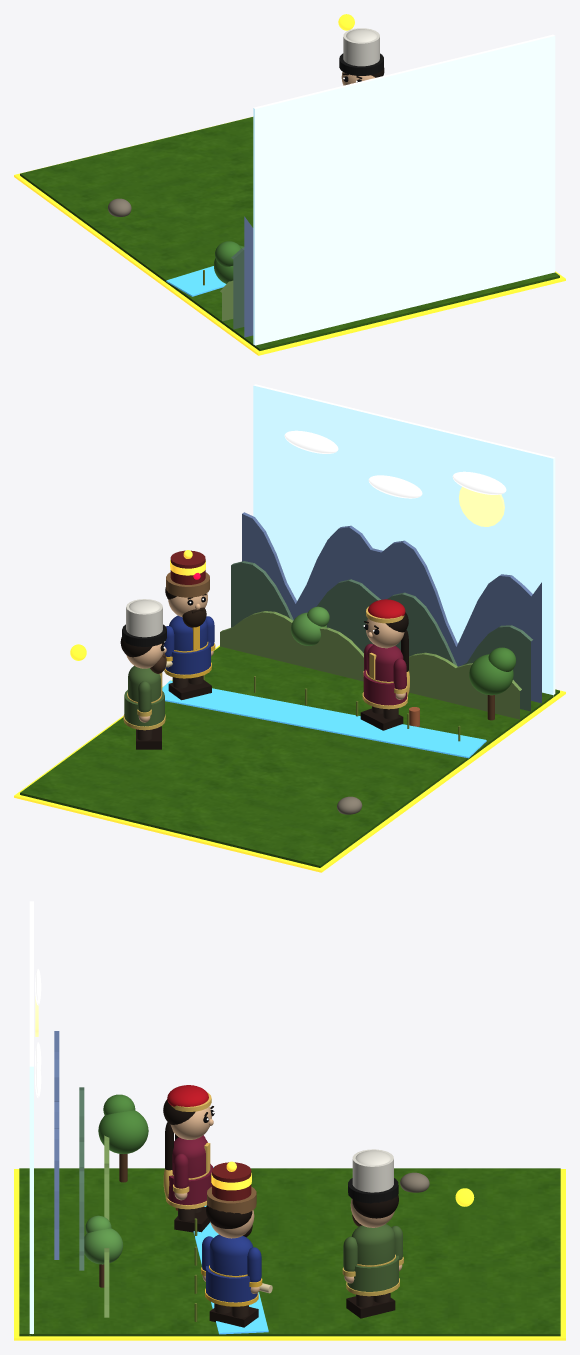
3 renders of one model, top to bottom at view 1: azimuth 30°, elevation 25°; view 2: azimuth 150°, elevation 25°; view 3: azimuth 270°, elevation 25°, orthographic. The views are drawn at different scales.
Visible parts, largest first — view 1: Аспан, Жер, Жиек, Алыс жота, Kalpak, Өзен, Орта жота, Brim, Жапырақ, Жақын төбе; view 2: Жер, Аспан, Алыс жота, Орта жота, Жақын төбе, Өзен, Жиек, Skirt (×3), Бұлт (×3), Torso (×3), Жапырақ (×2), Күн (+4 smaller); view 3: Жер, Жиек, Torso (×3), Skirt (×3), Жапырақ (×2), Аспан, Алыс жота, Hair (×2), Kalpak, Орта жота, Өзен, Crown (+5 smaller).
Boxes of the visible parts, x1,y1,x2,y2 form: Аспан: [253, 34, 555, 345]; Жер: [20, 117, 559, 350]; Жиек: [14, 116, 565, 355]; Алыс жота: [244, 216, 253, 337]; Kalpak: [343, 28, 379, 66]; Өзен: [166, 266, 226, 296]; Орта жота: [231, 247, 244, 329]; Brim: [339, 53, 383, 75]; Жапырақ: [215, 241, 241, 266]; Жақын төбе: [220, 280, 233, 321]; Жер: [20, 646, 559, 867]; Аспан: [253, 384, 555, 696]; Алыс жота: [242, 512, 541, 703]; Орта жота: [231, 561, 532, 711]; Жақын төбе: [220, 611, 521, 719]; Өзен: [162, 680, 486, 758]; Жиек: [14, 645, 565, 872]; Skirt (×3): [124, 642, 406, 726]; Бұлт (×3): [284, 430, 506, 498]; Torso (×3): [128, 615, 403, 701]; Жапырақ (×2): [291, 612, 513, 695]; Күн: [459, 486, 504, 526]; Жер: [19, 1168, 560, 1336]; Жиек: [14, 1169, 565, 1340]; Torso (×3): [172, 1136, 394, 1275]; Skirt (×3): [168, 1164, 398, 1302]; Жапырақ (×2): [84, 1110, 148, 1264]; Аспан: [29, 901, 33, 1333]; Алыс жота: [54, 1031, 59, 1259]; Hair (×2): [206, 1195, 398, 1228]; Kalpak: [352, 1149, 393, 1192]; Орта жота: [79, 1087, 84, 1270]; Өзен: [193, 1167, 268, 1334]; Crown: [212, 1162, 251, 1201].
Size of the model in its own units: 0.9635 by 0.7206 by 1.33.
Materials: 40 (1 with a texture image).
